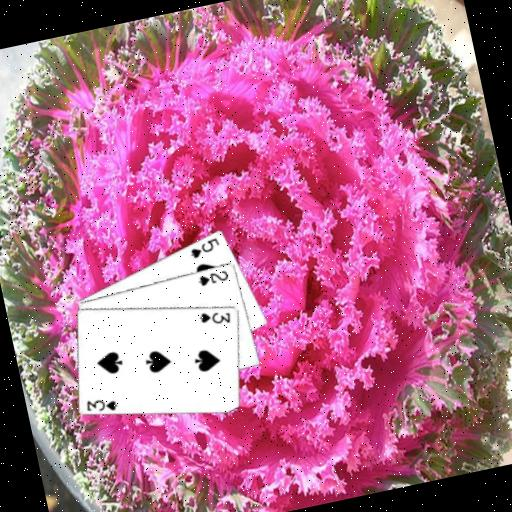2S: (194, 266, 231, 288)
3S: (195, 303, 233, 330), (82, 392, 120, 417)
5S: (186, 233, 223, 260)
